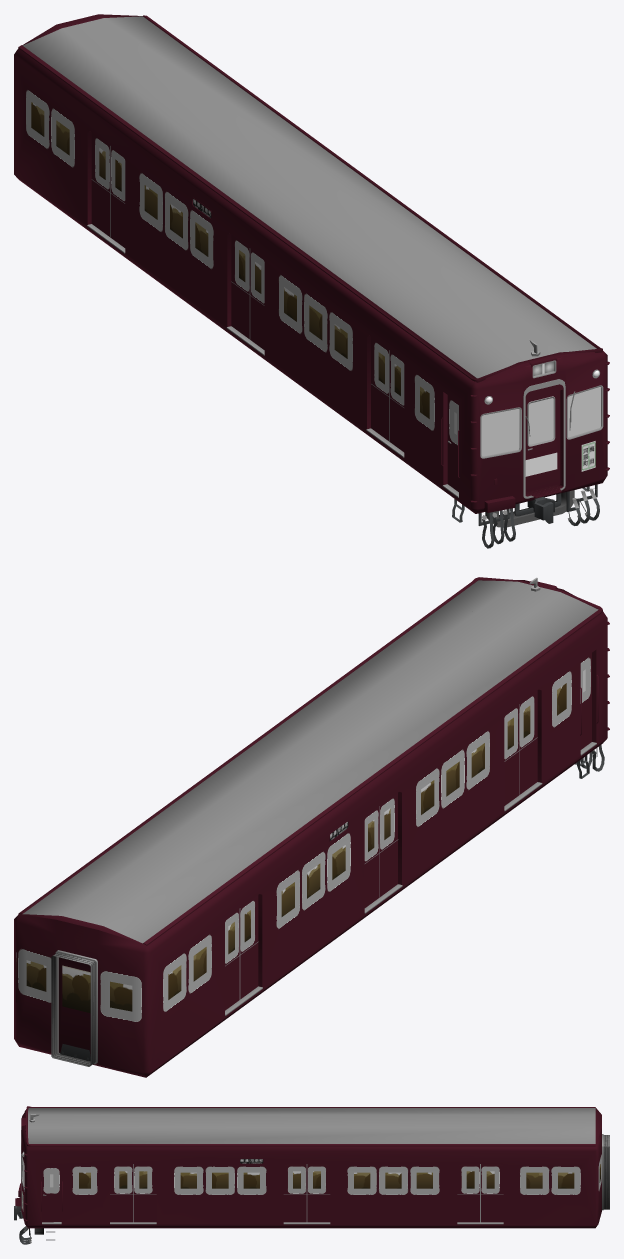
The picture shows the model from 3 angles, top to bottom: view 1: azimuth 30°, elevation 25°; view 2: azimuth 150°, elevation 25°; view 3: azimuth 270°, elevation 25°; orthographic projection. The views are drawn at different scales.
Parts seen in each view (by area): view 1: IN; view 2: IN; view 3: IN.
Boxes of the visible parts, x1,y1,x2,y2 form: IN: (14, 14, 609, 548); IN: (14, 577, 609, 1077); IN: (14, 1106, 609, 1244).
Size of the model in its own units: 6.68 by 8.41 by 39.48.
Materials: 45 (43 with a texture image).
